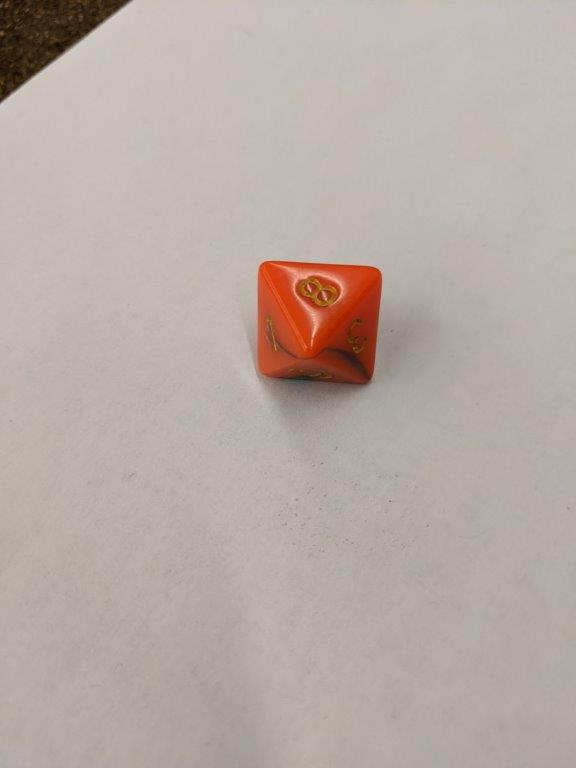d8-8: (255, 261, 382, 394)
